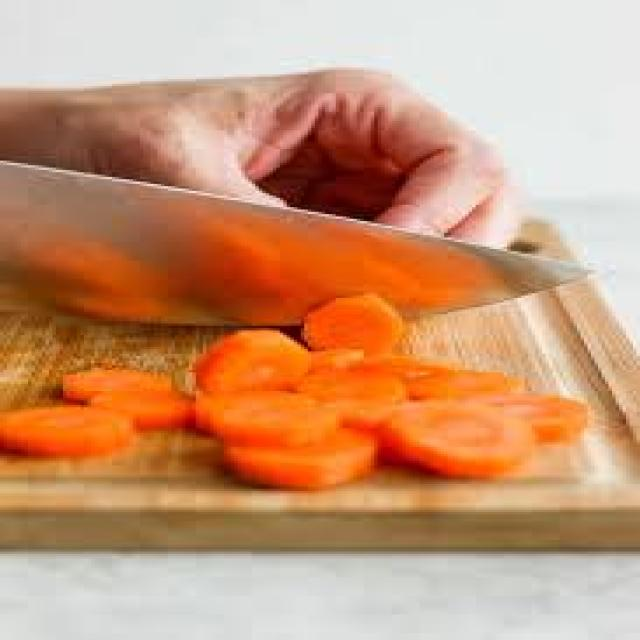Carrot: (371, 406, 538, 463), (200, 400, 344, 461), (13, 402, 144, 465), (199, 336, 337, 394)
